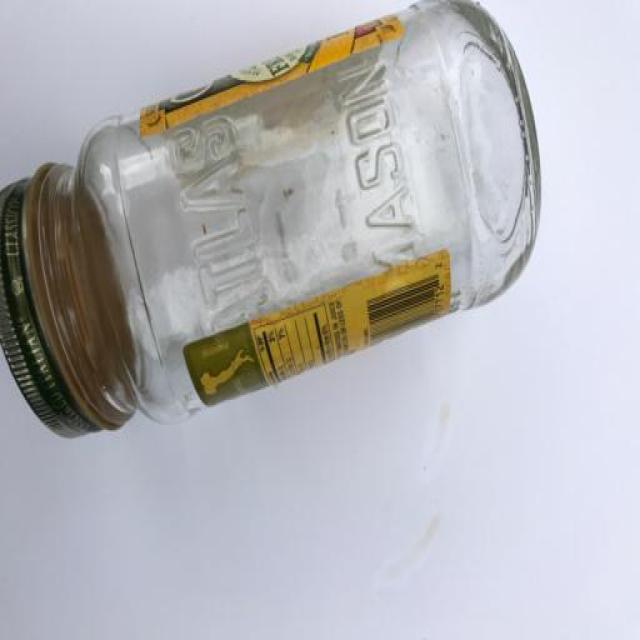glass: (0, 0, 539, 444)
